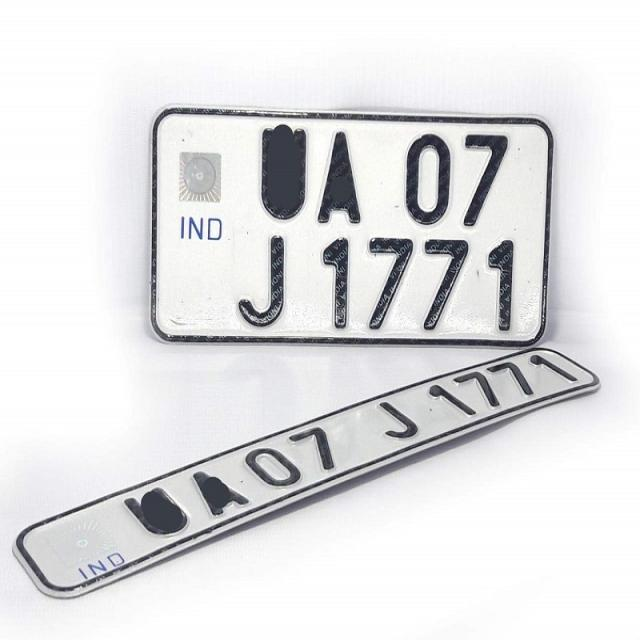plate: (42, 346, 604, 584), (152, 104, 548, 344)
